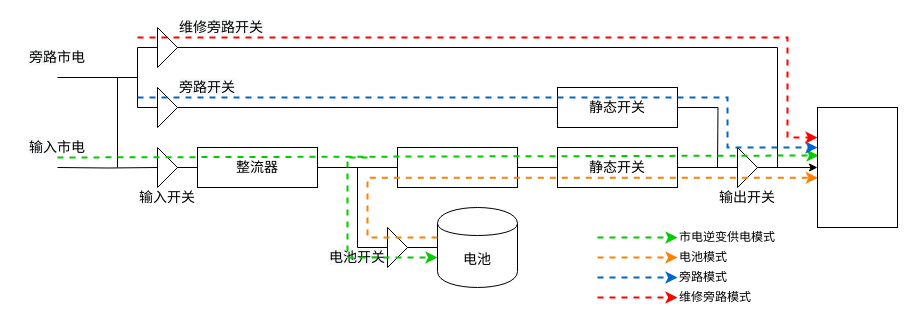
Some shapes in this 915 by 324 pixel diagram are drawn without their labels. Each missing label, with the centre of its shape:
负载: [857,167]
逆变器: [457,167]
